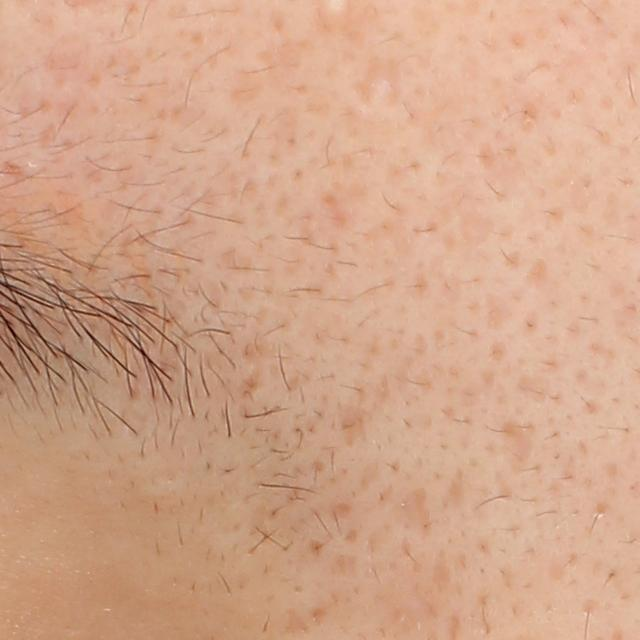atrophic_scar: (255, 36, 325, 96), (349, 48, 413, 113), (496, 415, 539, 476), (338, 375, 370, 454), (395, 487, 431, 537), (440, 466, 474, 516), (428, 547, 451, 597)
